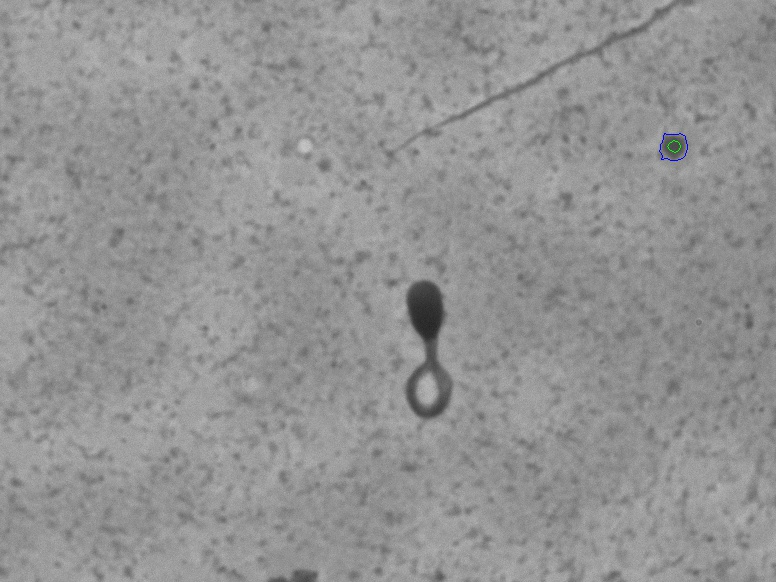Abnormal: (352, 255, 493, 440)
